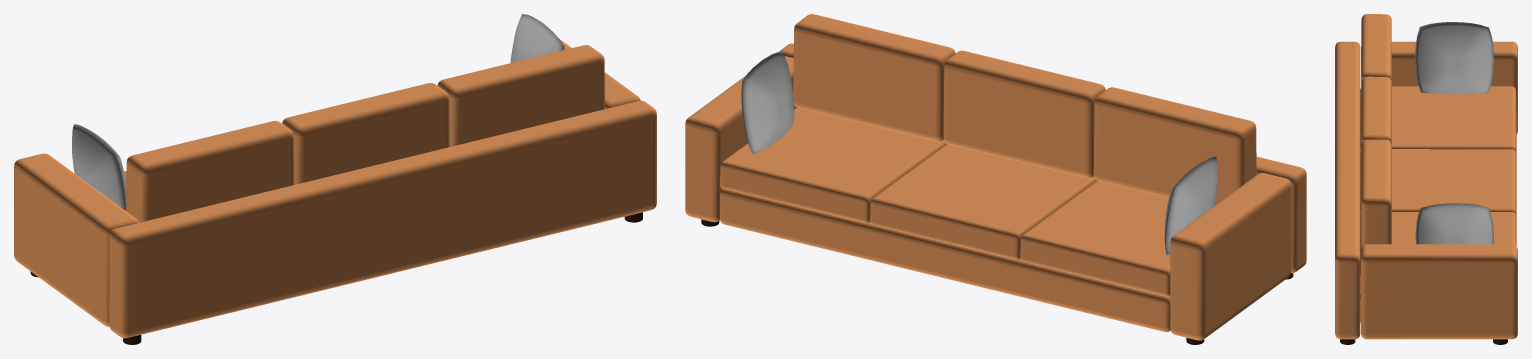
Rendered from Sofa.fbx.
The picture shows the model from 3 angles, left to right: view 1: azimuth 30°, elevation 25°; view 2: azimuth 150°, elevation 25°; view 3: azimuth 270°, elevation 25°; orthographic projection. The views are drawn at different scales.
Visible parts, largest first — view 1: BackRest (×2), BackPillowExtra (×2), ArmRest, CornerBackPillows, Throw (×2); view 2: BackPillowExtra (×2), MainExtraPillow (×2), Bottom, CornerBackPillows, ArmRest, CornerPillow, BackRest (×2), Throw (×2); view 3: BackRest (×2), MainExtraPillow (×2), Throw (×2), BackPillowExtra (×2), CornerBackPillows, ArmRest, CornerPillow, Bottom.
Boxes of the visible parts, bbox=[...] form: BackRest (×2): bbox=[109, 39, 656, 338]; BackPillowExtra (×2): bbox=[126, 83, 449, 222]; ArmRest: bbox=[14, 153, 138, 326]; CornerBackPillows: bbox=[437, 45, 605, 146]; Throw (×2): bbox=[72, 14, 564, 210]; BackPillowExtra (×2): bbox=[943, 50, 1256, 204]; MainExtraPillow (×2): bbox=[870, 144, 1170, 296]; Bottom: bbox=[720, 188, 1170, 332]; CornerBackPillows: bbox=[793, 14, 955, 141]; ArmRest: bbox=[1170, 173, 1291, 340]; CornerPillow: bbox=[719, 107, 946, 223]; BackRest (×2): bbox=[685, 43, 1306, 273]; Throw (×2): bbox=[741, 51, 1217, 254]; BackRest (×2): bbox=[1335, 41, 1517, 339]; MainExtraPillow (×2): bbox=[1360, 86, 1516, 221]; Throw (×2): bbox=[1415, 22, 1493, 244]; BackPillowExtra (×2): bbox=[1361, 14, 1391, 191]; CornerBackPillows: bbox=[1361, 139, 1391, 247]; ArmRest: bbox=[1361, 41, 1517, 133]; CornerPillow: bbox=[1360, 212, 1516, 293]; Bottom: bbox=[1360, 114, 1516, 323].
Size of the model in its own units: 3.03 by 0.8745 by 1.08.
